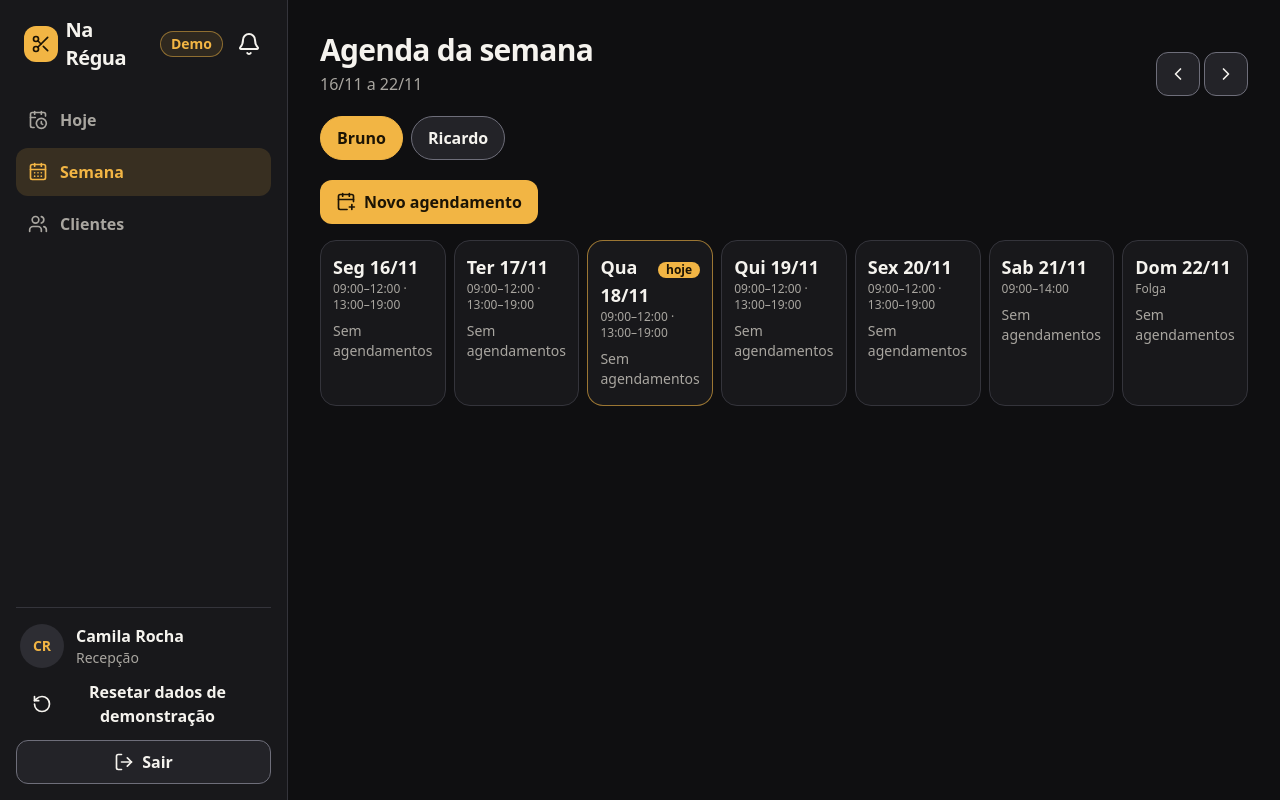
Test: ClientsPage › registers a new client while booking
Click the button "Novo agendamento": (429, 202) [320,180,538,224]
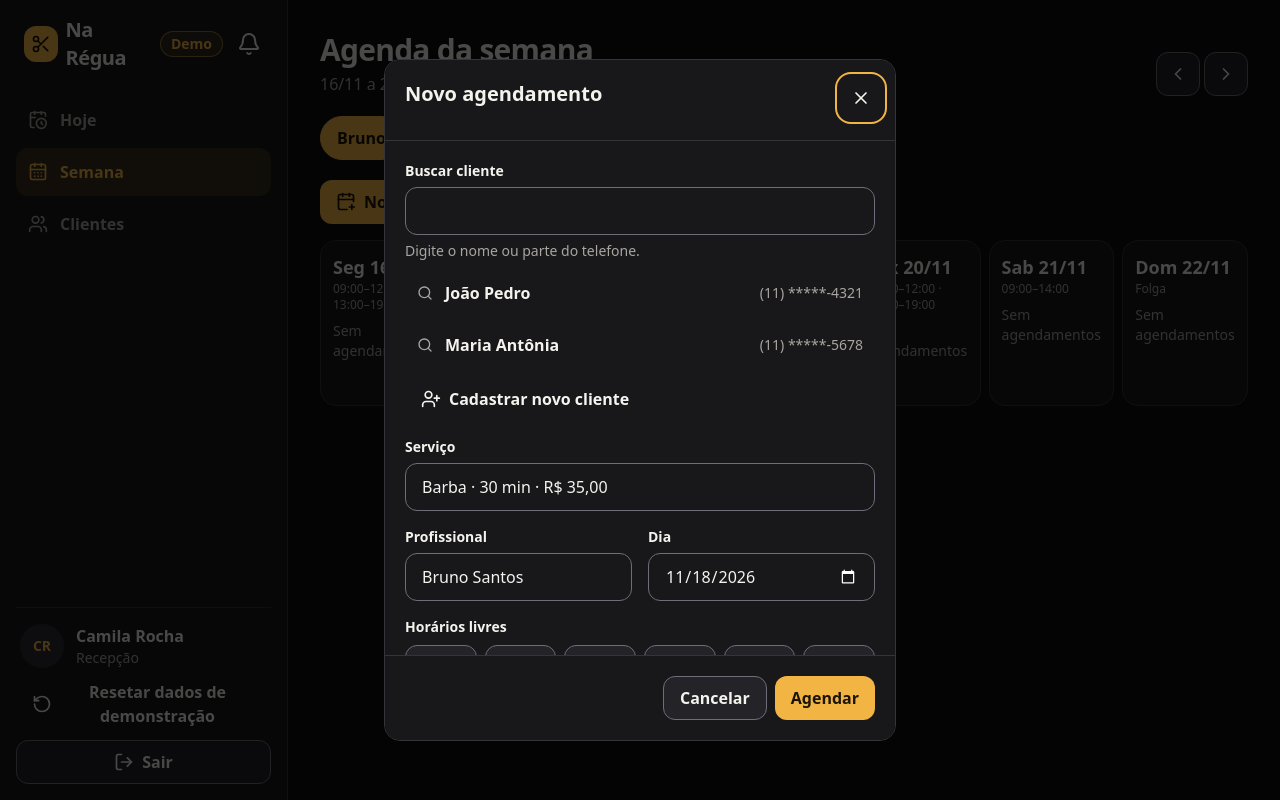
Click the button "Cadastrar novo cliente": (525, 399) [405,377,645,421]
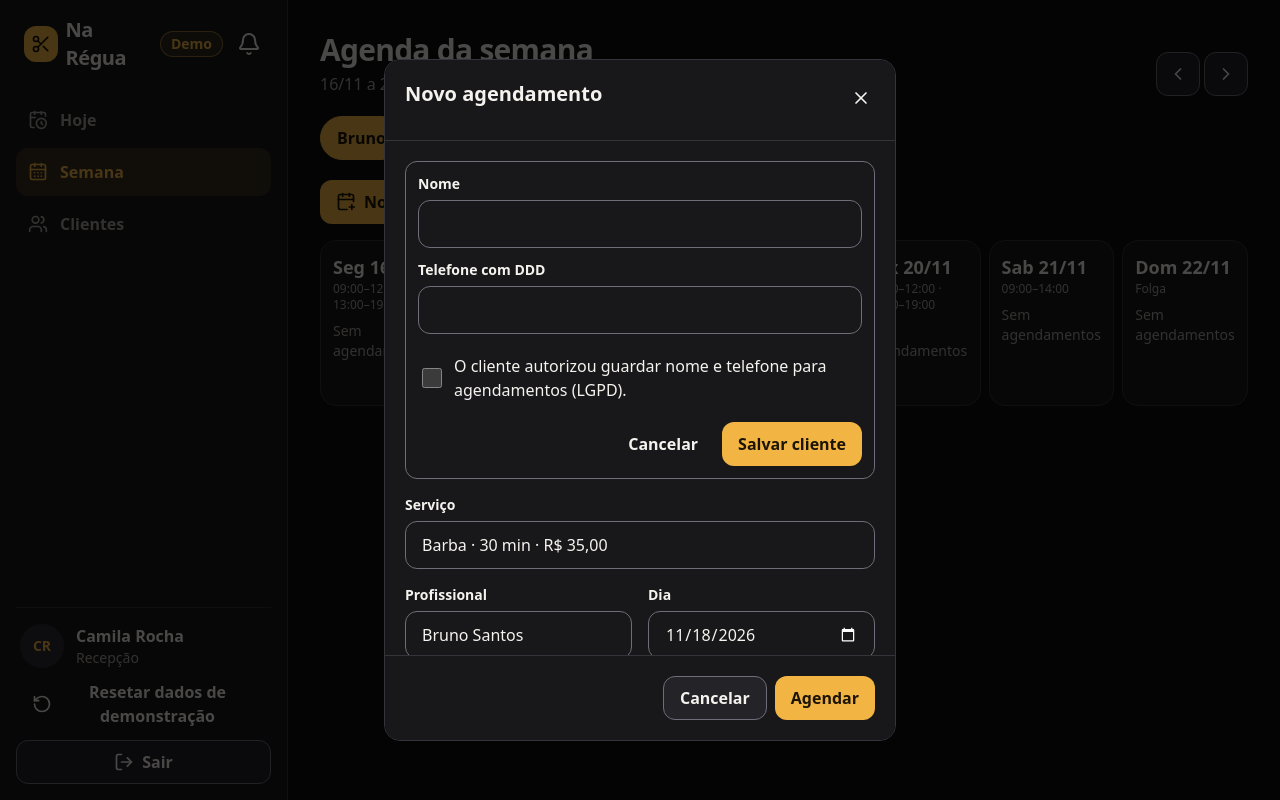
In the field labelled "Nome": (640, 224) [418,200,862,248], type "Carlos Novo"
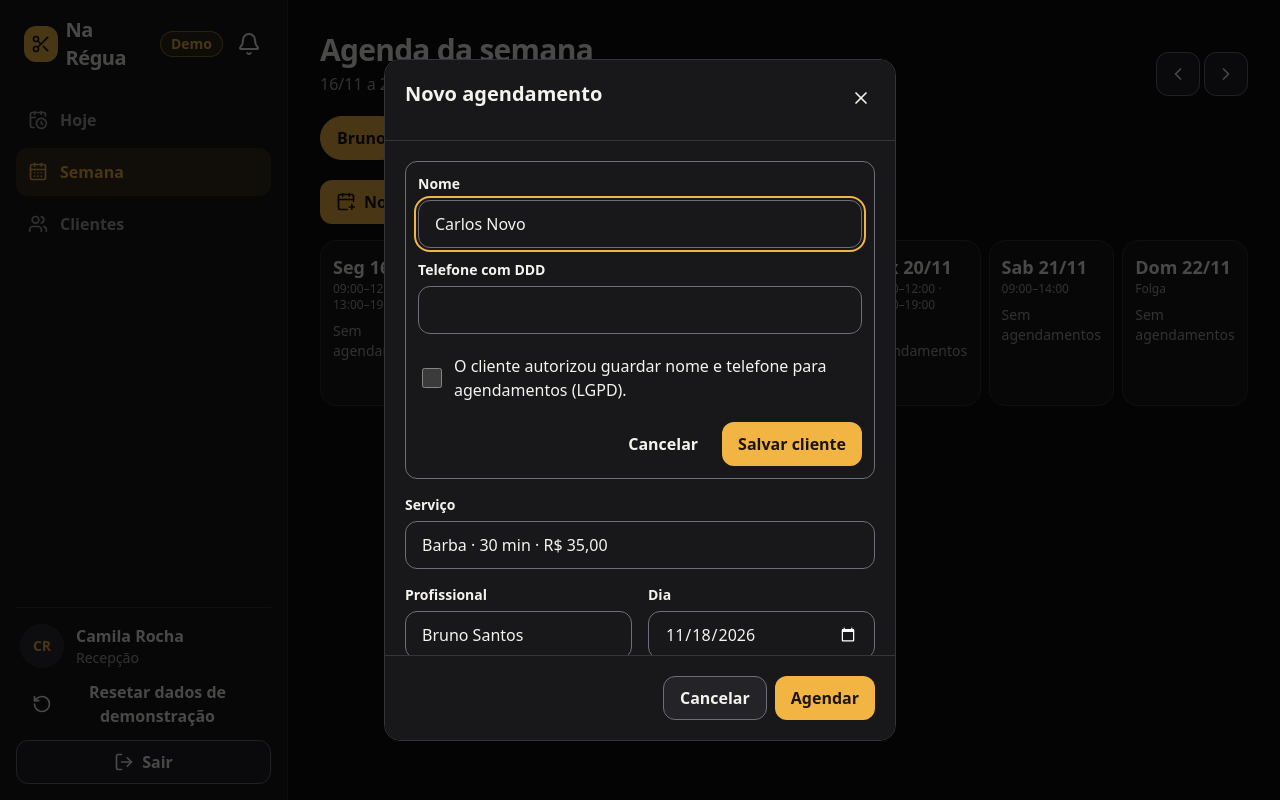
In the field labelled "Telefone com DDD": (640, 310) [418,286,862,334], type "11966665555"
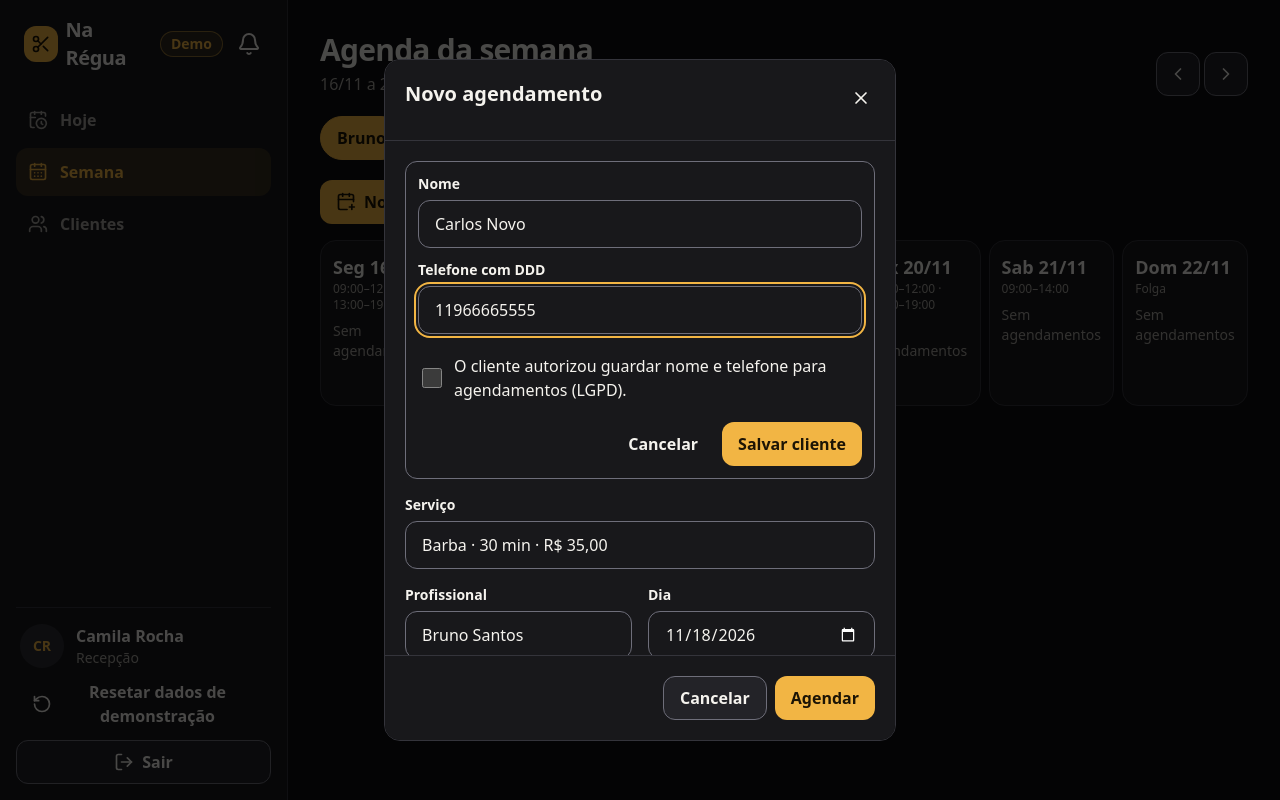
Click the checkbox labelled "autorizou guardar": (432, 378) [422,368,442,388]
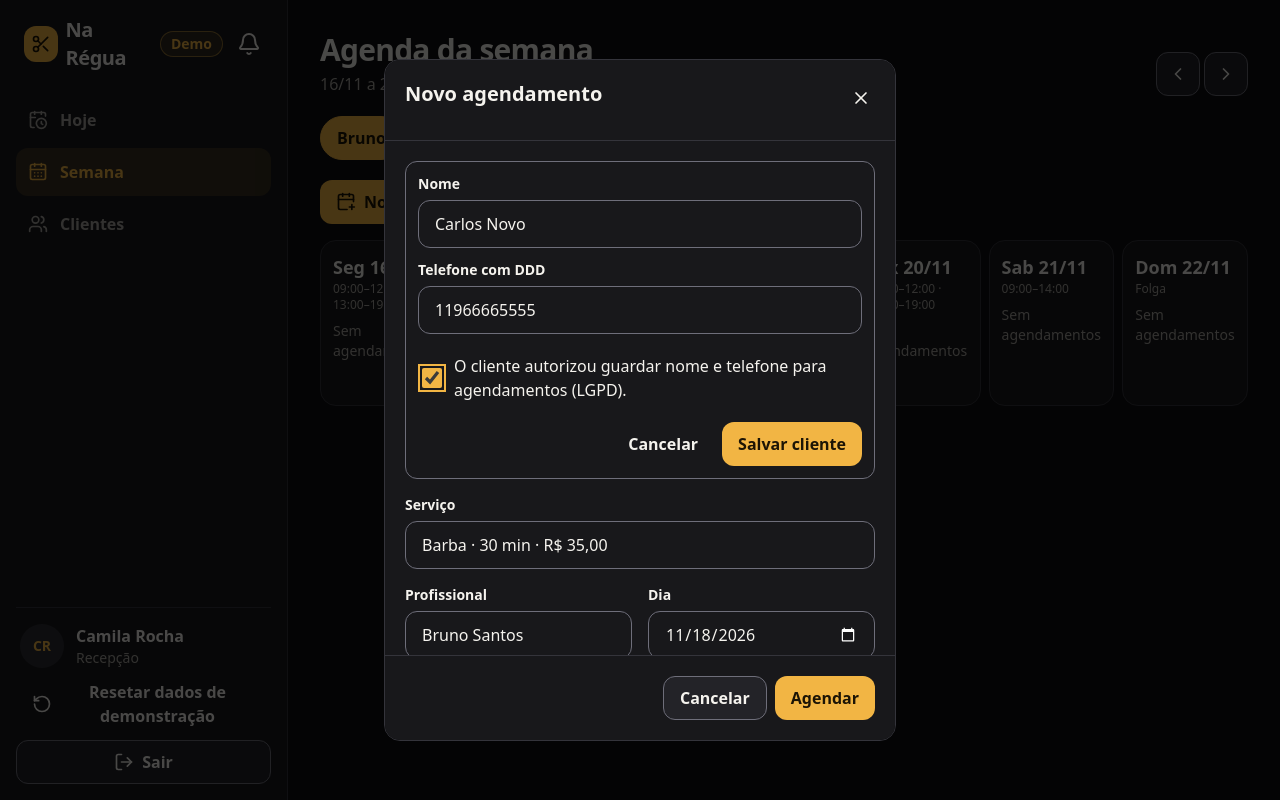
Click the button "Salvar cliente": (792, 444) [722,422,862,466]
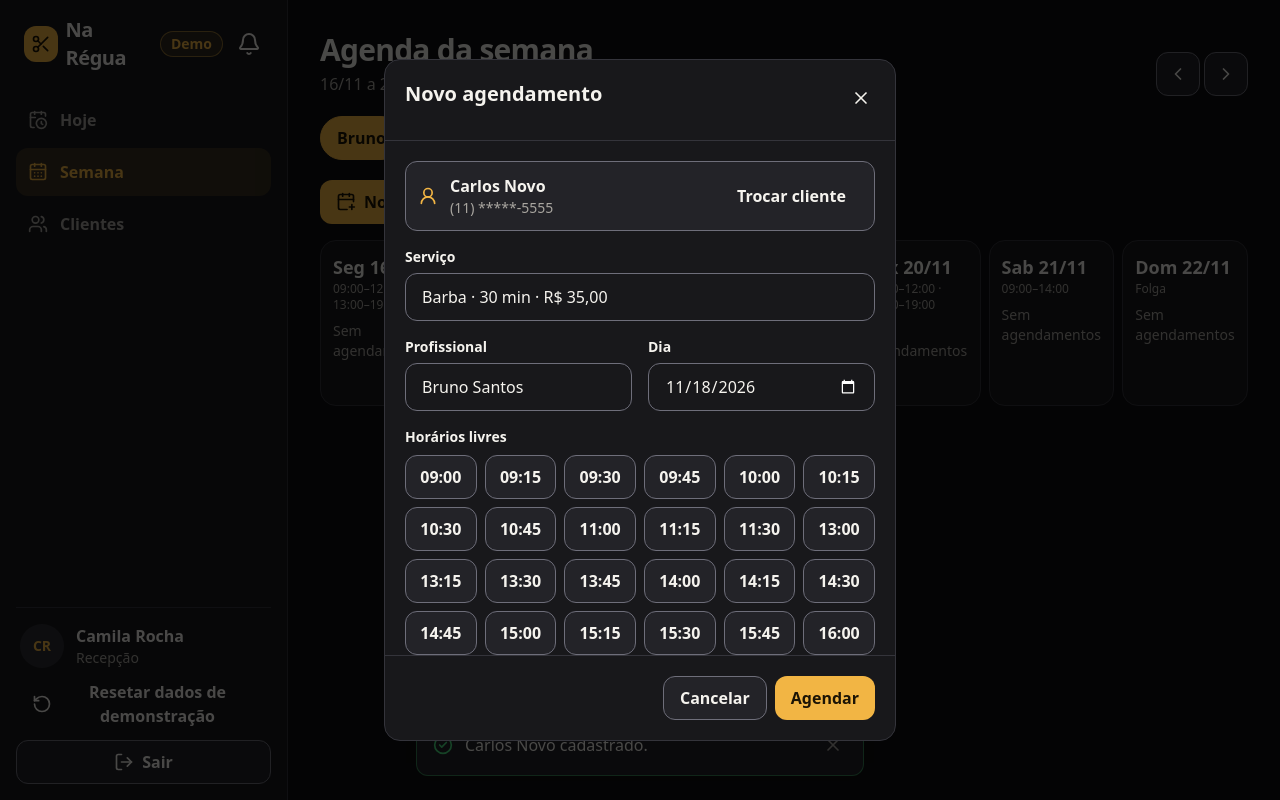
expect the text "Carlos Novo cadastrado." is shown: met, box [465,734,648,756]
expect the text "(11) *****-5555" is shown: met, box [450,198,553,217]
expect the button "Trocar cliente" is shown: met, box [721,174,862,218]
